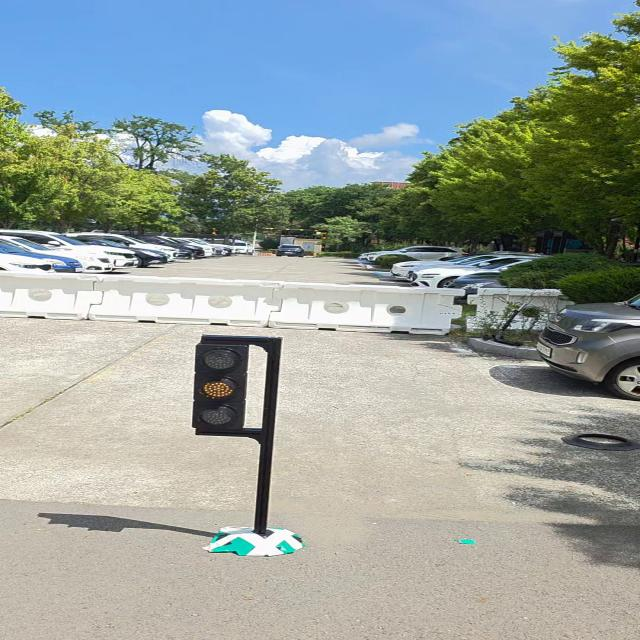yellow: (192, 343, 248, 429)
